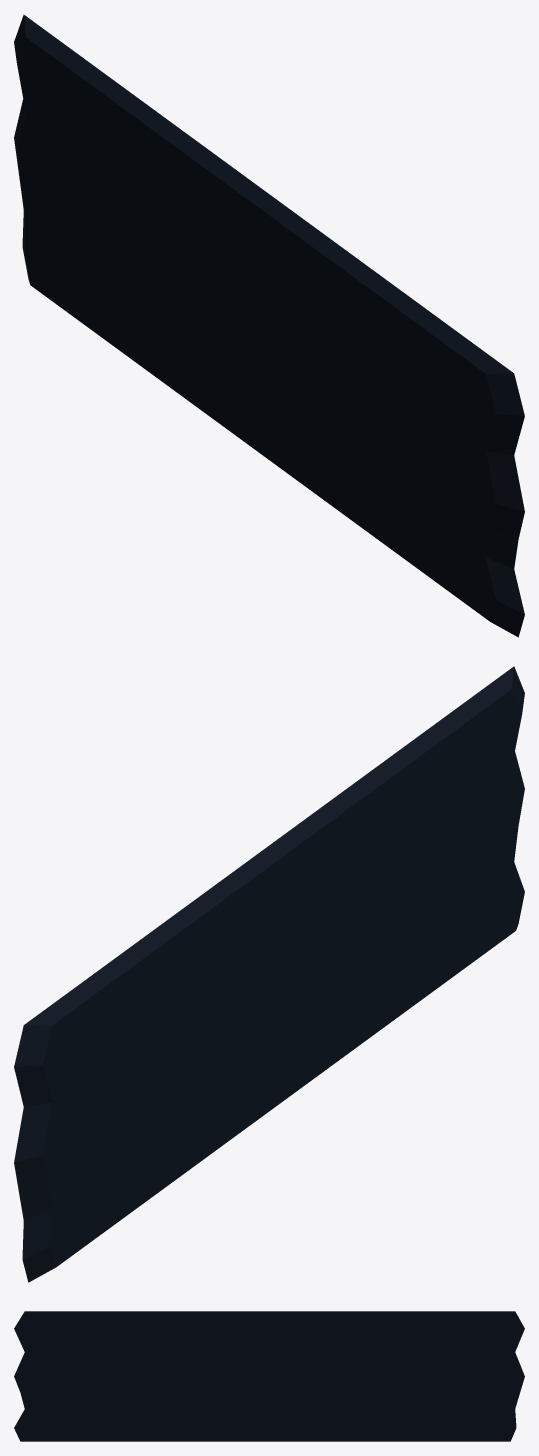
File: Sign_Shack.fbx
3 views of the same model, one above another, from view 1: azimuth 30°, elevation 25°; view 2: azimuth 150°, elevation 25°; view 3: azimuth 270°, elevation 25° (orthographic). The views are drawn at different scales.
Visible parts, largest first — view 1: Plane.020; view 2: Plane.020; view 3: Plane.020.
Part boxes in pixels (left/top/right/bottom): Plane.020: left=14, top=14, right=524, bottom=637; Plane.020: left=14, top=666, right=524, bottom=1282; Plane.020: left=14, top=1311, right=524, bottom=1441.
Size of the model in its own units: 2.98 by 57.08 by 203.
